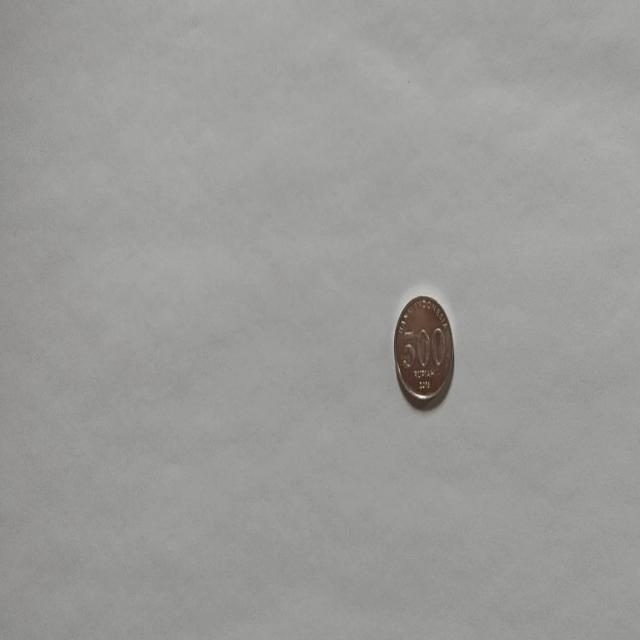lima ratus rupiah: (392, 294, 454, 406)
